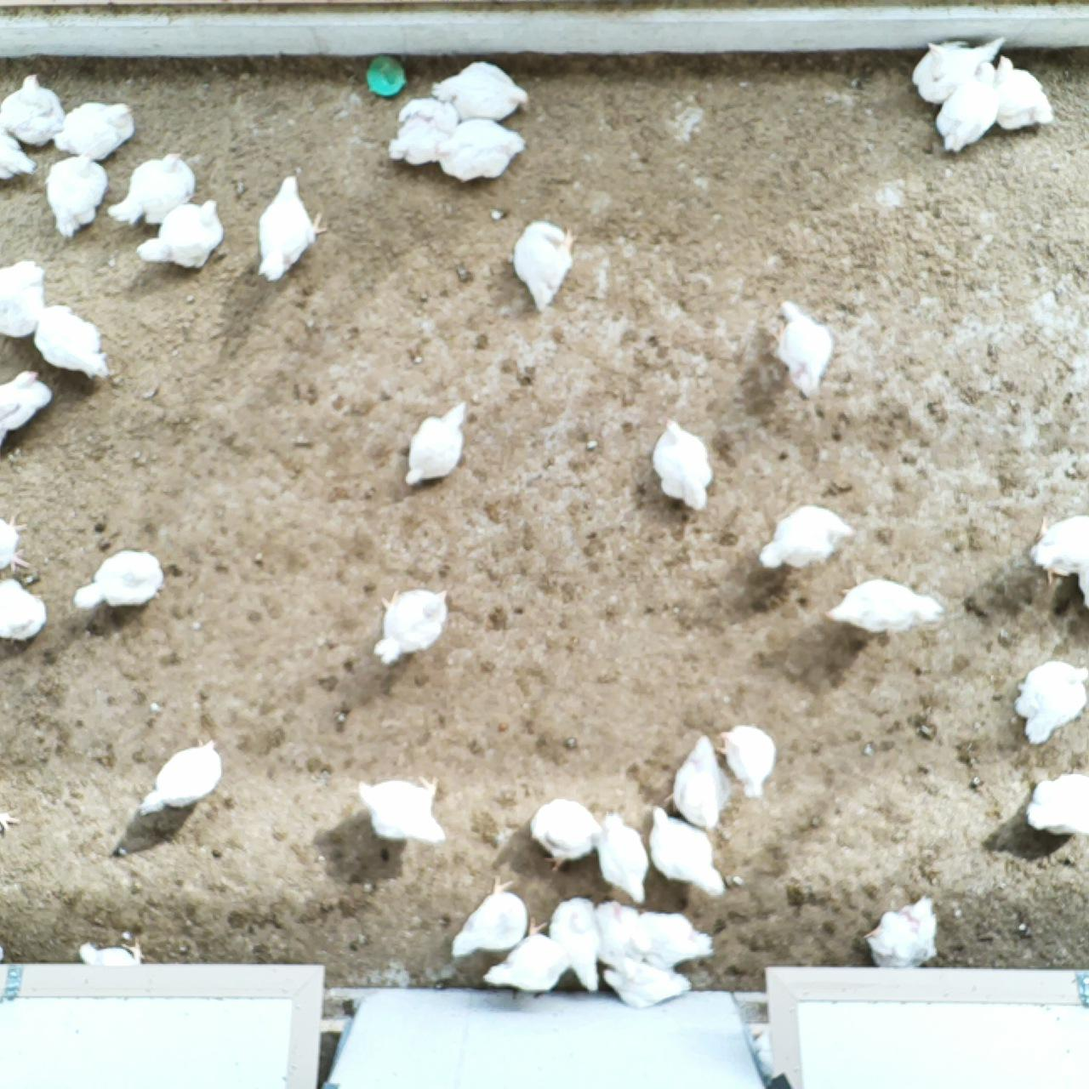chicken: (259, 174, 332, 280), (648, 805, 726, 898), (824, 576, 944, 634), (485, 918, 575, 995), (108, 150, 198, 225), (138, 737, 221, 817), (758, 507, 859, 572), (453, 873, 529, 956), (355, 774, 445, 844), (513, 218, 580, 311), (915, 34, 1004, 101), (137, 199, 224, 266), (436, 120, 530, 181), (652, 419, 715, 510), (434, 60, 532, 118), (405, 400, 469, 488), (668, 735, 727, 830), (776, 298, 832, 398), (866, 895, 939, 971), (1020, 661, 1089, 741), (73, 549, 165, 609), (375, 590, 449, 664), (604, 958, 694, 1017), (35, 304, 108, 376), (943, 62, 1001, 152), (1031, 510, 1089, 600), (596, 813, 651, 904), (46, 157, 109, 235), (534, 799, 599, 873), (718, 723, 776, 801), (0, 368, 53, 453), (555, 898, 603, 991), (54, 101, 136, 155), (633, 910, 716, 963), (1025, 770, 1089, 838), (993, 58, 1055, 128), (2, 74, 65, 142), (0, 262, 47, 341), (393, 103, 454, 162), (0, 574, 48, 644), (599, 895, 640, 956), (79, 937, 146, 967), (0, 510, 30, 575), (0, 128, 36, 178), (0, 804, 16, 837)
